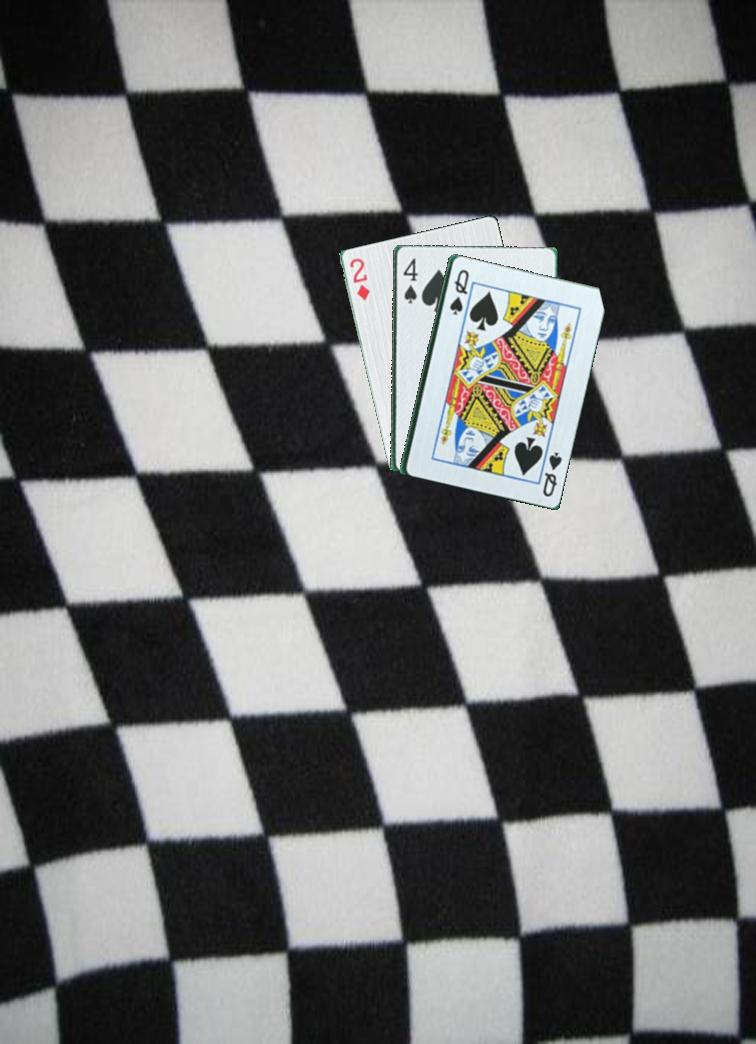2d: (345, 249, 373, 303)
4s: (399, 254, 419, 306)
qs: (539, 447, 565, 500), (446, 265, 472, 317)
